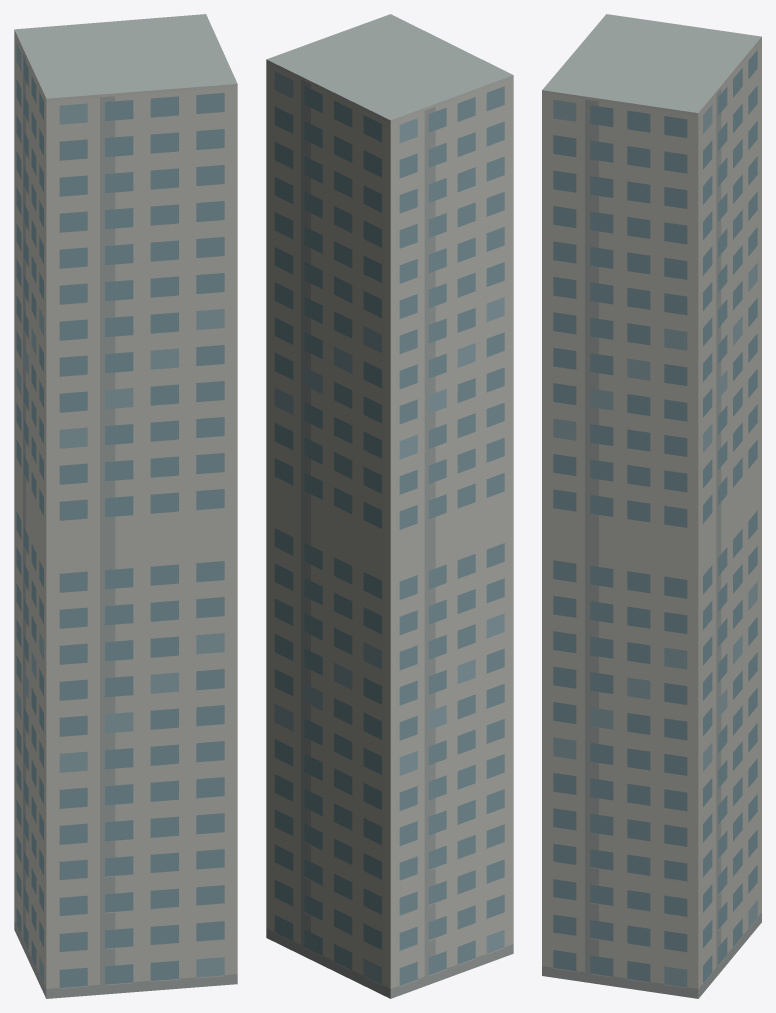
Rendered from survey-upis-32903334.glb.
3 views of the same model, side by side, from view 1: azimuth 30°, elevation 25°; view 2: azimuth 150°, elevation 25°; view 3: azimuth 270°, elevation 25° (orthographic). The views are drawn at different scales.
Visible parts, largest first — view 1: survey-upis-32903334.tmp; view 2: survey-upis-32903334.tmp; view 3: survey-upis-32903334.tmp.
Boxes of the visible parts, <box> form: survey-upis-32903334.tmp: <box>14,14,237,998</box>; survey-upis-32903334.tmp: <box>266,14,513,998</box>; survey-upis-32903334.tmp: <box>542,14,761,998</box>.
Size of the model in its own units: 18.32 by 76.25 by 17.16.
